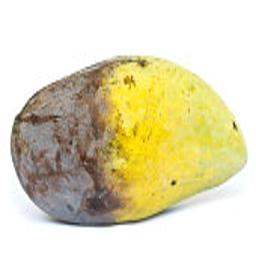Mango Rotten: (5, 62, 253, 232)
